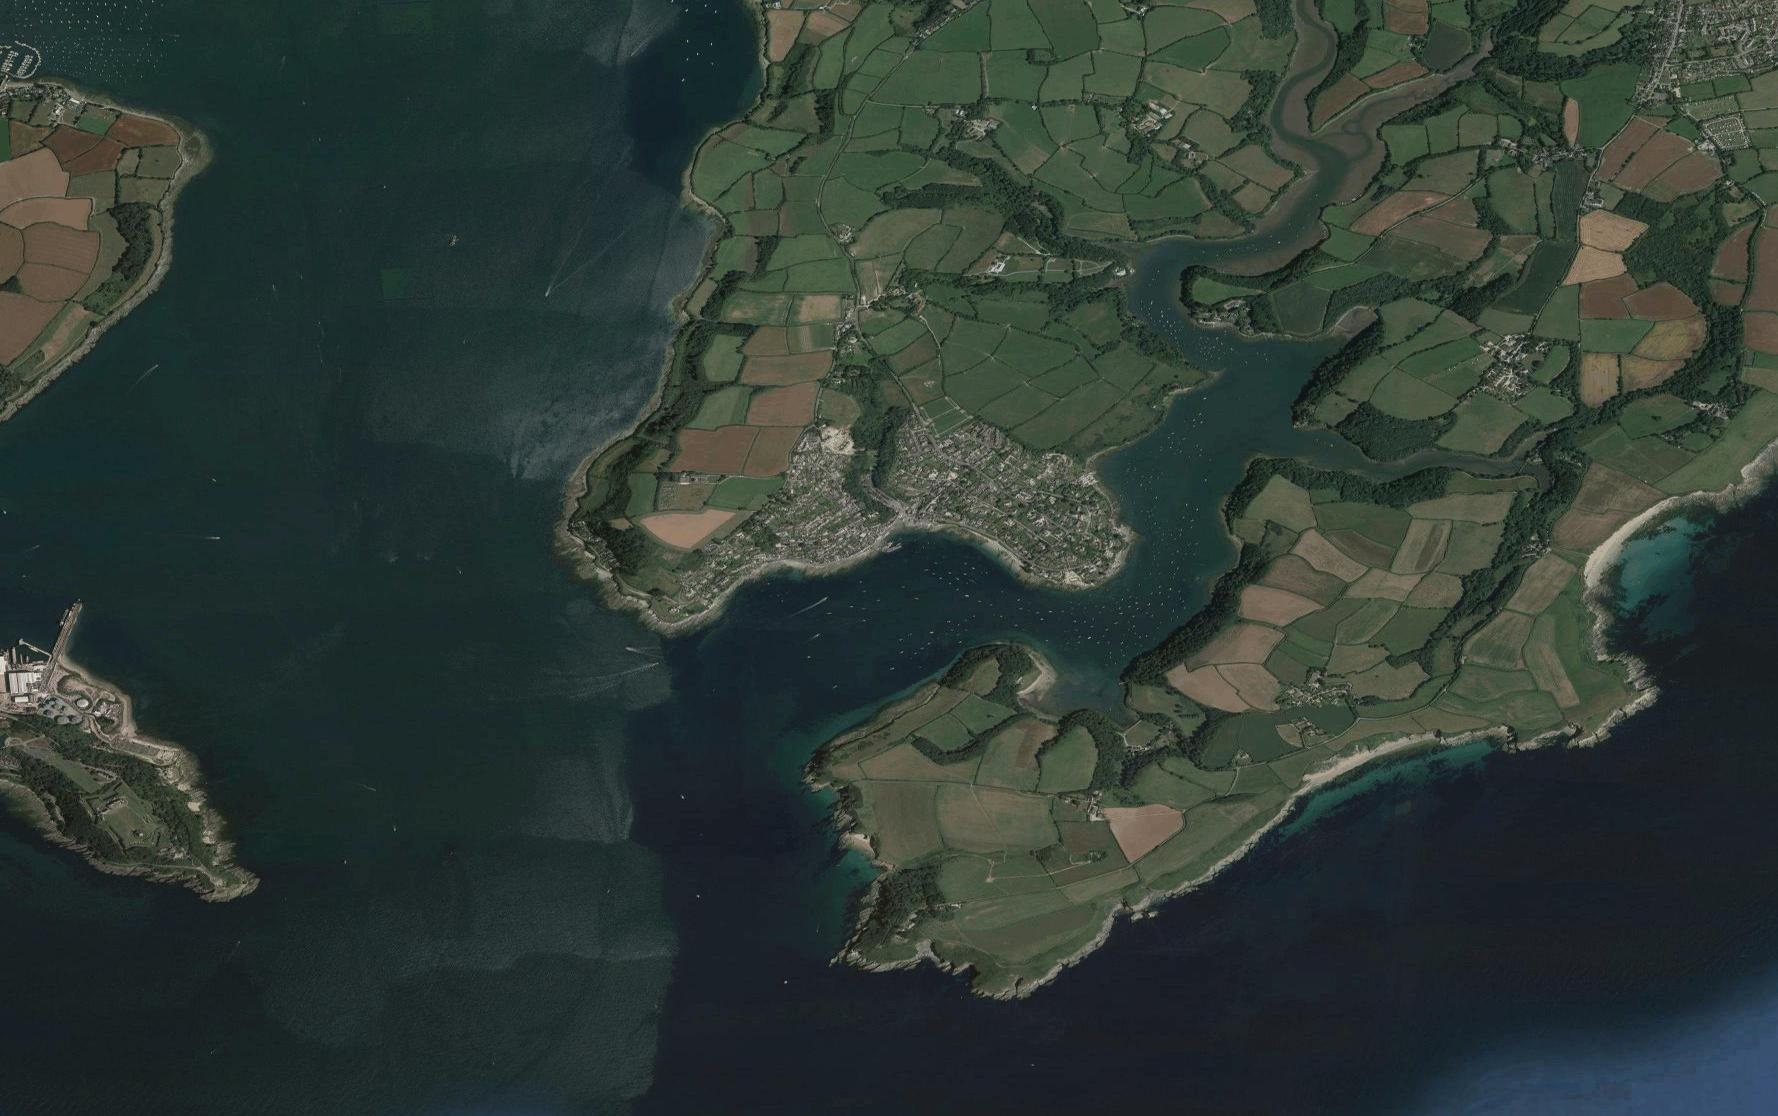harbor: (21, 585, 103, 683), (867, 532, 908, 561)
